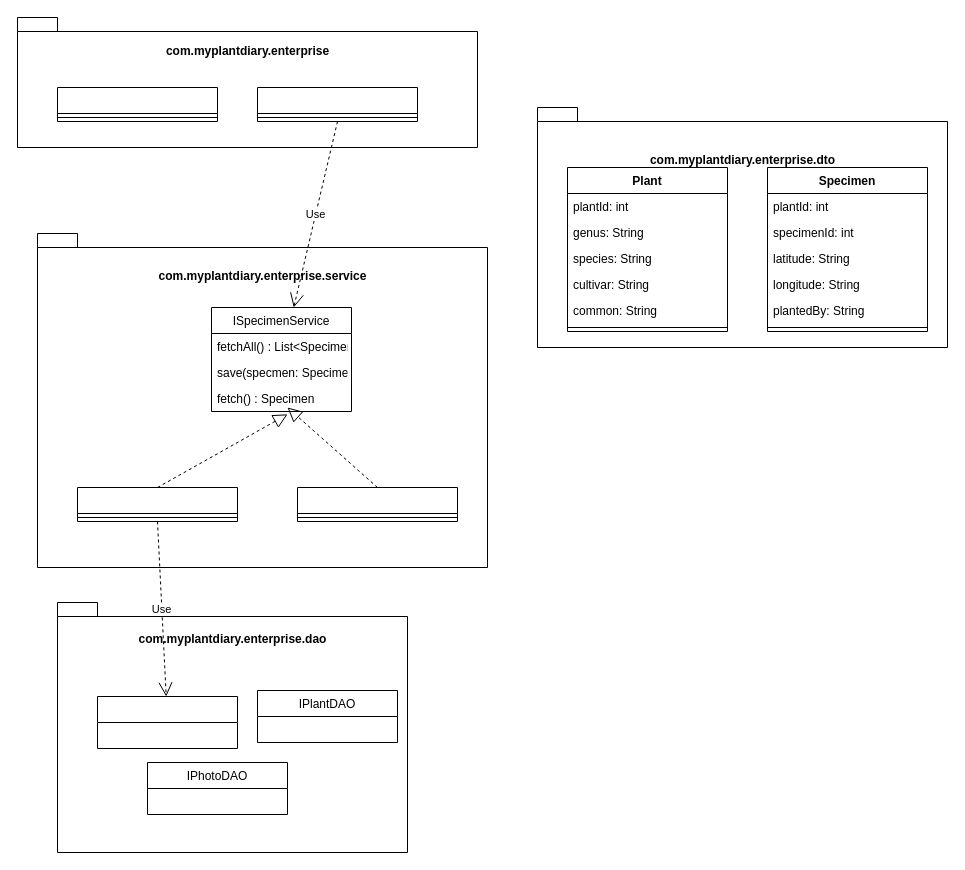
Some shapes in this 965 by 870 pixel diagram are drawn without their labels. The centre of each missing label's shape, as x and y in pixels:
EnterpriseApplication: the point at 137,104
ISpecimenDAO: the point at 167,722
MyPlantDiaryController: the point at 337,104
SpecimenService: the point at 157,504
SpecimenServiceStub: the point at 377,504
